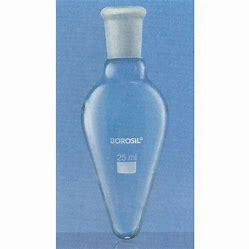Pear shaped flask: (80, 2, 164, 239)
